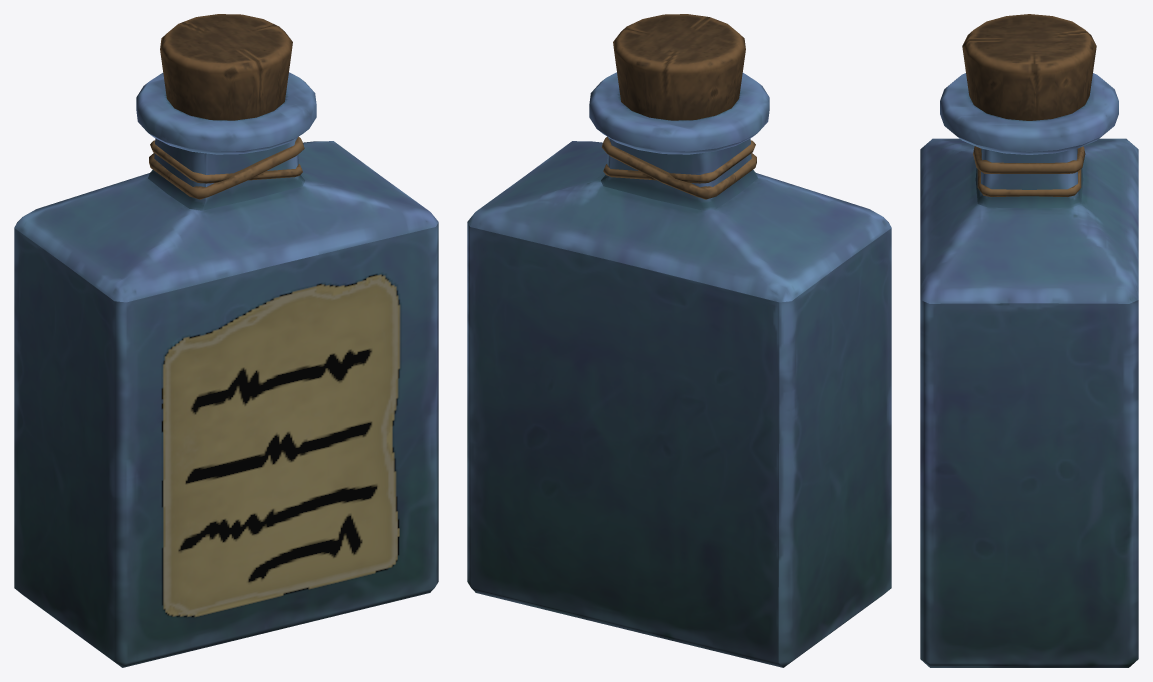
The model's file is SM_Potion_02.fbx.
3 views of the same model, side by side, from view 1: azimuth 30°, elevation 25°; view 2: azimuth 150°, elevation 25°; view 3: azimuth 270°, elevation 25° (orthographic).
Parts seen in each view (by area): view 1: SM_Potion_03; view 2: SM_Potion_03; view 3: SM_Potion_03.
Boxes of the visible parts, x1=… form: SM_Potion_03: x1=14, y1=14, x2=438, y2=667; SM_Potion_03: x1=467, y1=14, x2=891, y2=667; SM_Potion_03: x1=920, y1=14, x2=1138, y2=667.
Bounding box in the file's own units: 19.51 × 31.88 × 11.39.
1 material, 1 textured.
